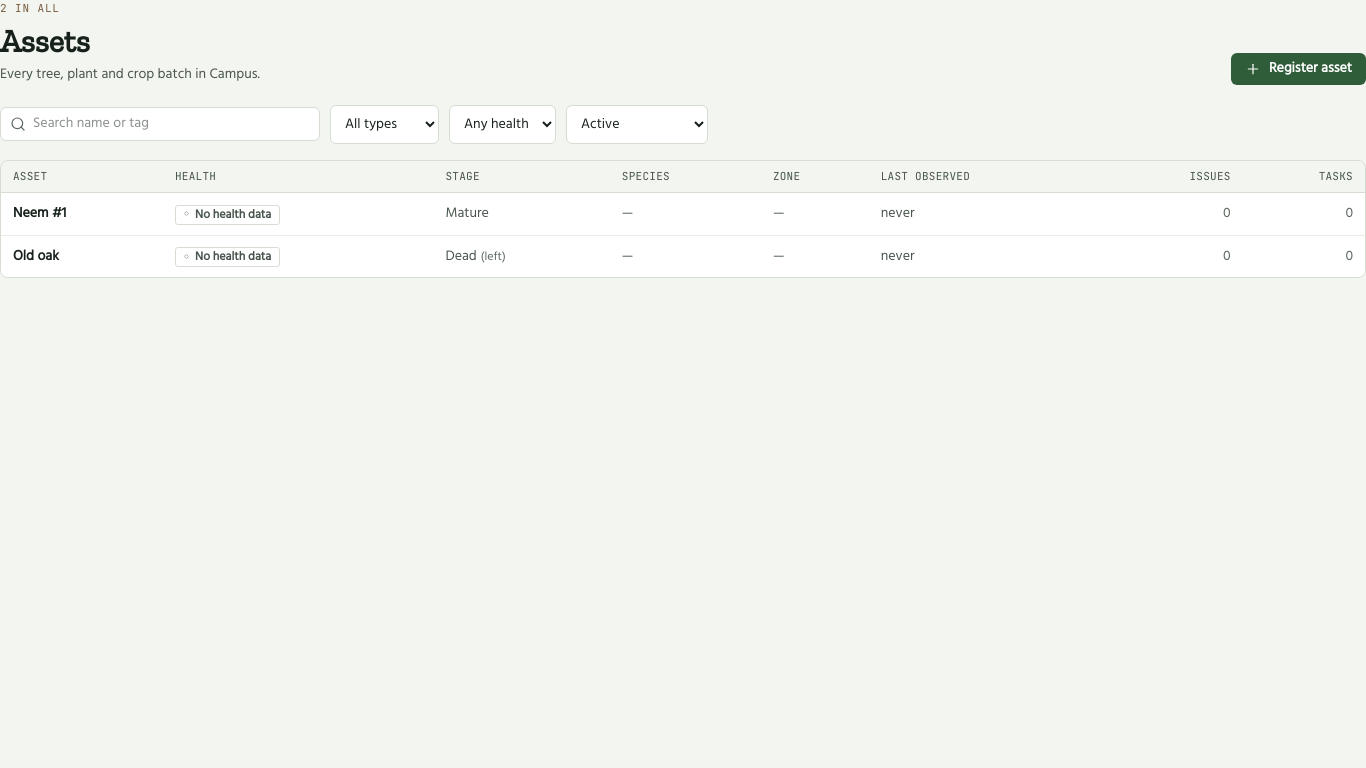
Test case: use my location while registering (ADR-079) › fills latitude and longitude from the device and says how accurate it was
Click the button "Register asset" at (1298, 68), box [1231, 52, 1365, 84]
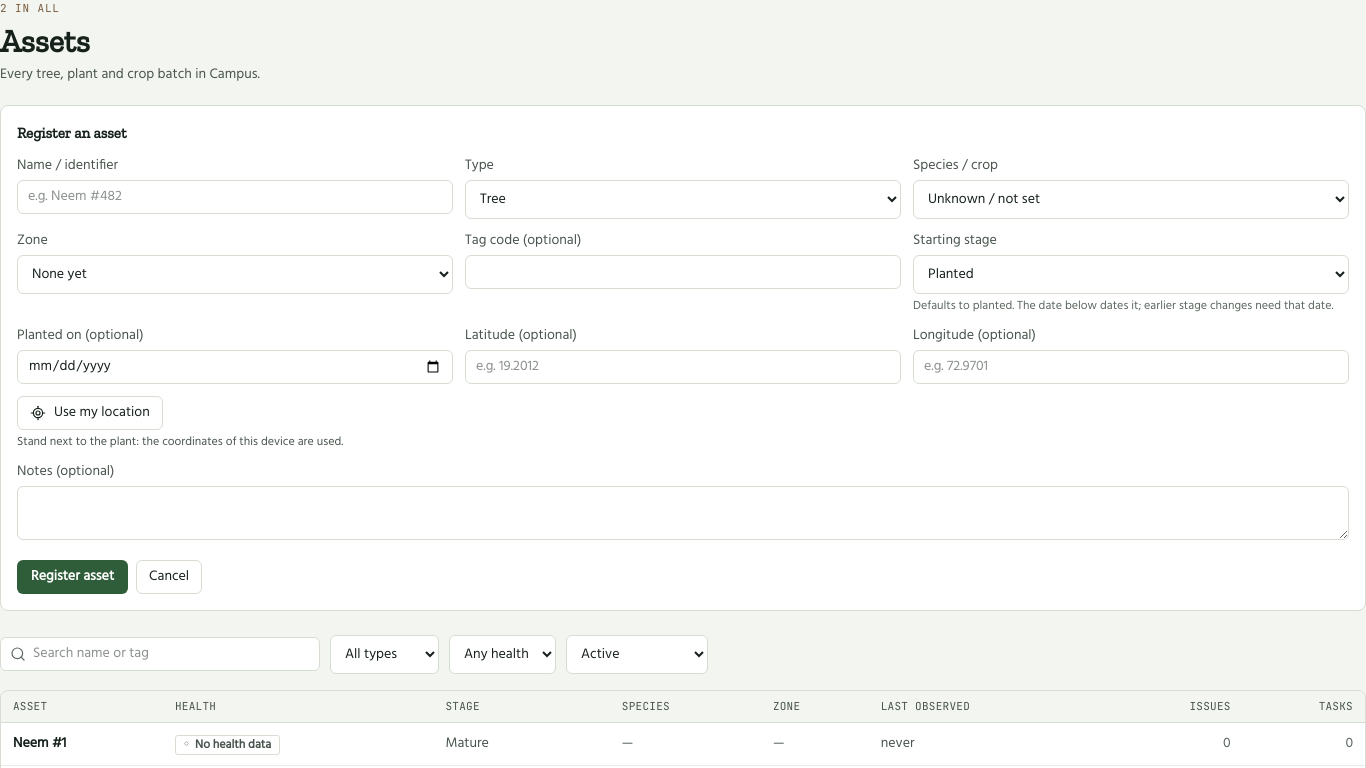
Click the button "Use my location" at (90, 413), box [17, 396, 163, 430]
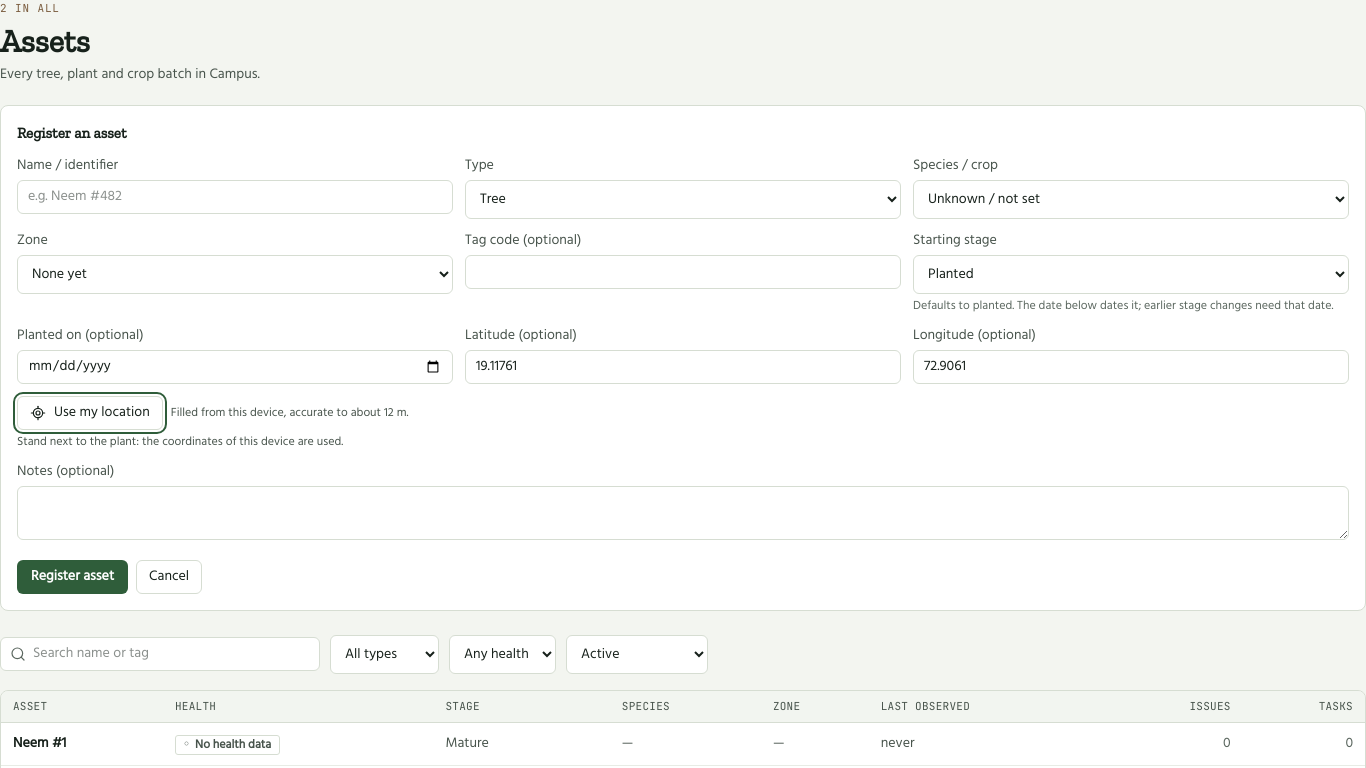
Expected: the field labelled "Latitude (optional)" holds "19.11761", [465, 350, 901, 384]
Expected: the field labelled "Longitude (optional)" holds "72.9061", [913, 350, 1349, 384]
Expected: the text "Filled from this device, accurate to about 12 m." is shown, [171, 405, 408, 421]
